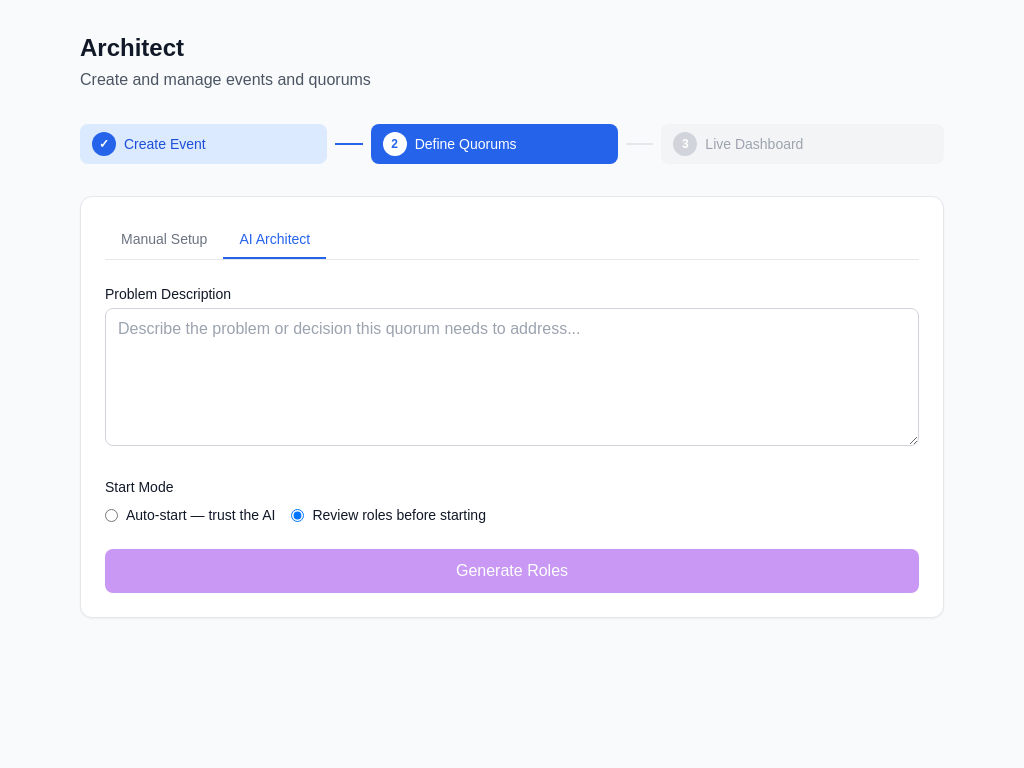
AI Architect Panel › generates roles when Generate button is clicked
Step 1. Type "How should we allocate research funding?" into the text box with placeholder "Describe the problem" → (512,377), box [105,308,919,446]
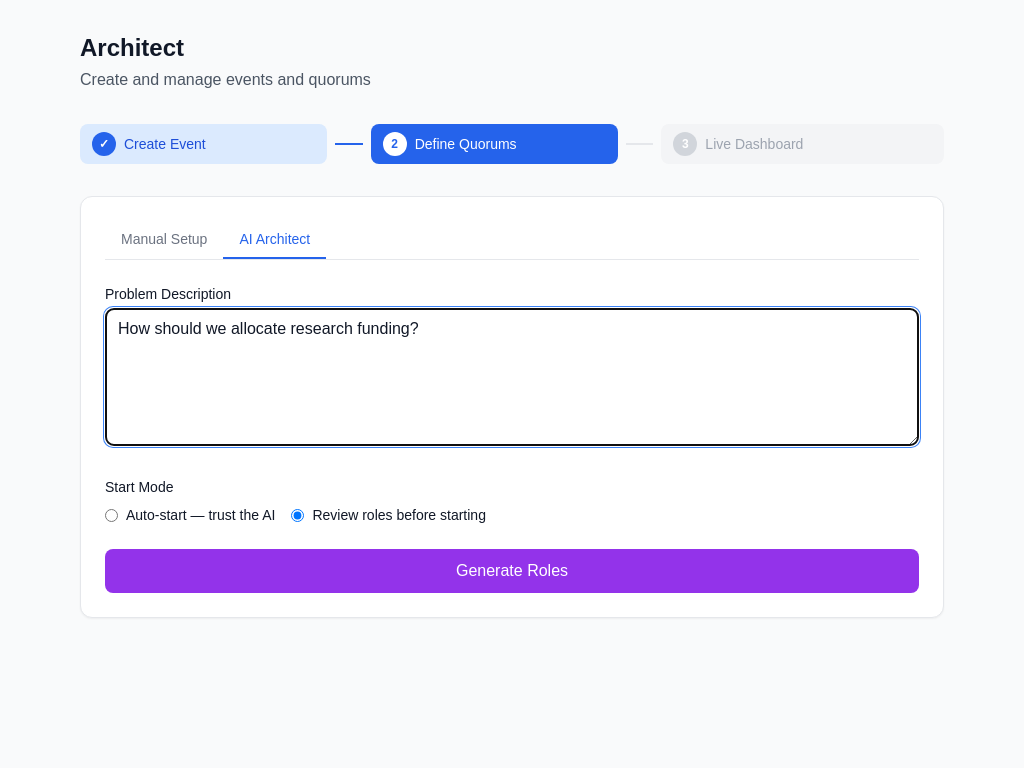
Step 2. Click the button "Generate Roles" → (512,571), box [105,549,919,593]
(page scrolled)
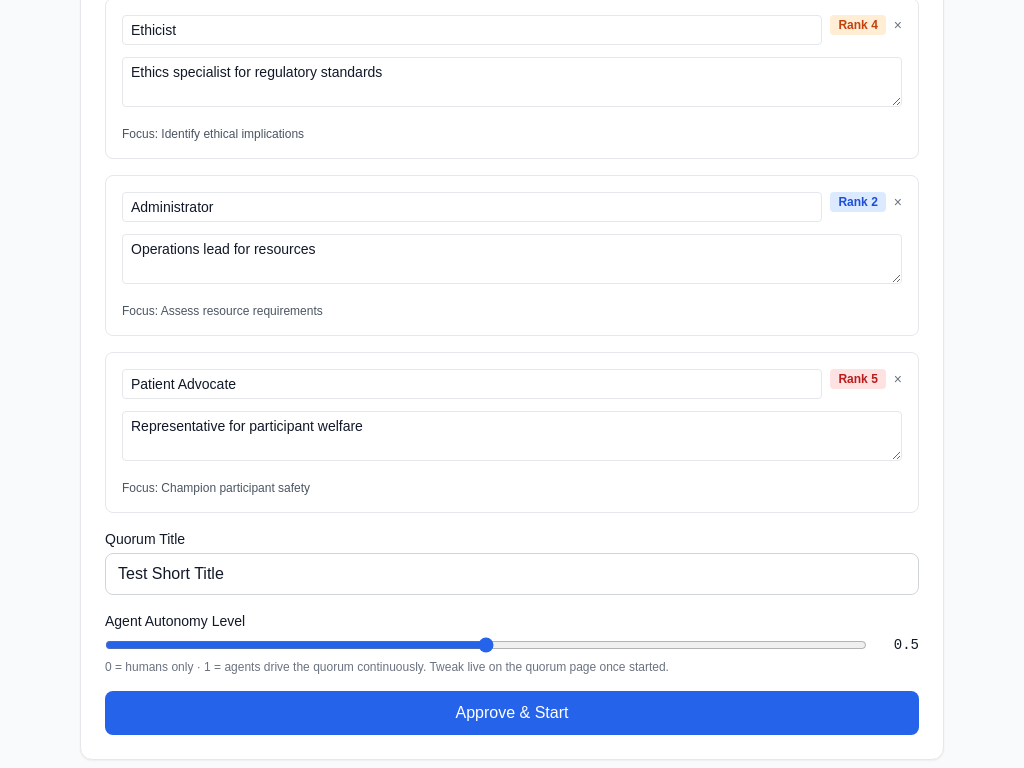
Check: the 1st field showing "Ethicist" is shown, box [122,15,822,45]
Check: the 2nd field showing "Administrator" is shown, box [122,192,822,222]
Check: the 3rd field showing "Patient Advocate" is shown, box [122,369,822,399]
